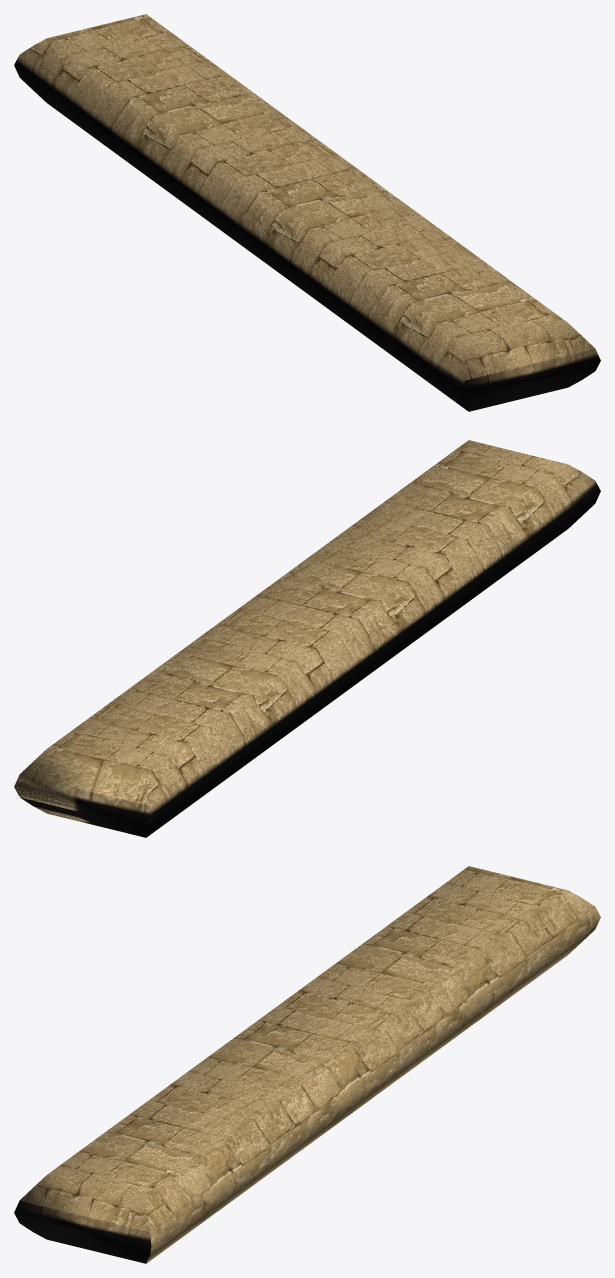
File: Rock platform by MK.fbx
3 views of the same model, one above another, from view 1: azimuth 30°, elevation 25°; view 2: azimuth 150°, elevation 25°; view 3: azimuth 330°, elevation 25° (orthographic).
Visible parts, largest first — view 1: Cube; view 2: Cube; view 3: Cube.
Part boxes in pixels (x1=…): Cube: x1=14, y1=14, x2=600, y2=411; Cube: x1=14, y1=440, x2=600, y2=837; Cube: x1=14, y1=866, x2=600, y2=1263.
Size of the model in its own units: 291 by 132 by 1653.
